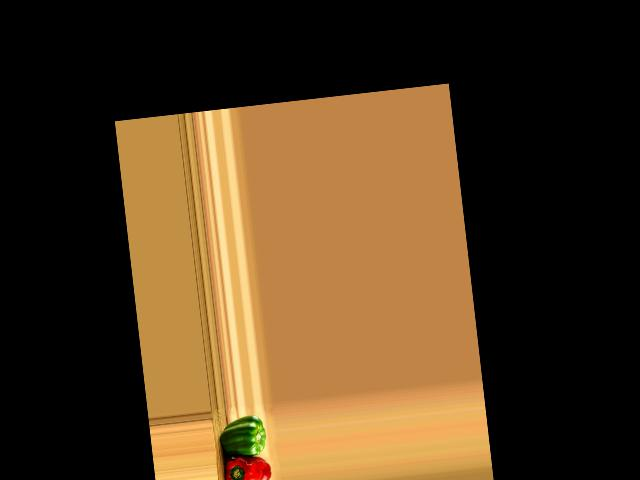bell_pepper: (222, 451, 273, 480)
